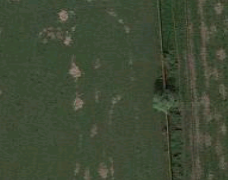tree: (146, 83, 187, 118)
